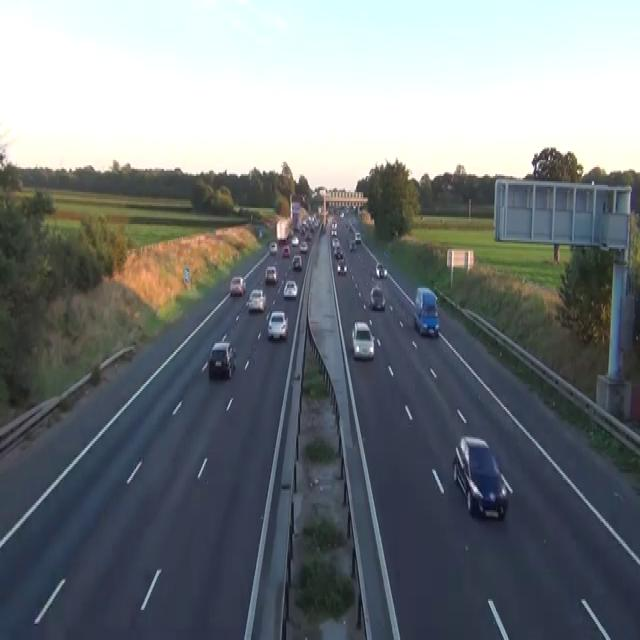Car: (452, 434, 508, 519), (413, 286, 439, 338), (208, 341, 236, 379), (351, 320, 374, 359), (267, 310, 288, 340), (245, 288, 266, 311), (369, 286, 385, 310), (229, 276, 246, 295), (283, 279, 297, 297), (264, 265, 277, 283), (375, 262, 387, 278), (331, 238, 341, 256), (336, 258, 347, 274), (292, 254, 302, 270), (331, 236, 340, 249), (299, 240, 308, 252), (282, 245, 290, 258), (335, 247, 343, 260), (330, 222, 337, 236), (269, 242, 277, 254), (349, 238, 356, 251), (354, 231, 361, 242), (278, 236, 287, 244), (291, 235, 298, 245), (304, 231, 311, 240), (383, 249, 388, 258), (339, 210, 344, 218), (258, 228, 262, 238), (345, 220, 350, 228)
Truck: (275, 218, 291, 242), (291, 201, 301, 227)
